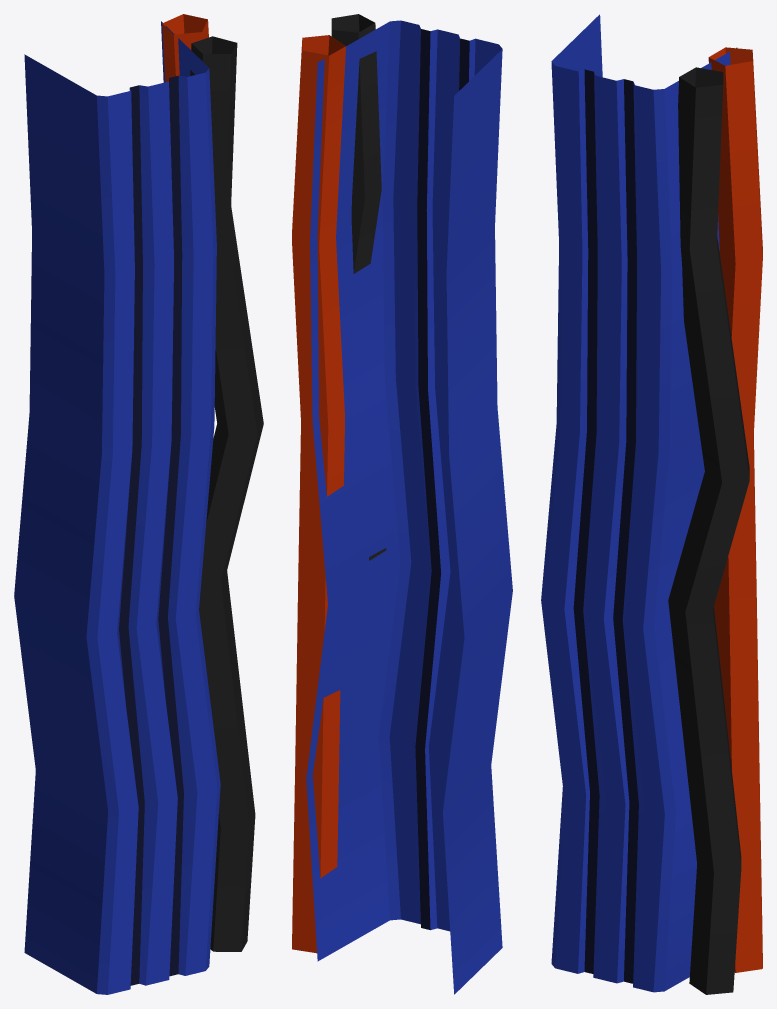
File: MDL_AscensorColumna.FBX
The picture shows the model from 3 angles, left to right: view 1: azimuth 30°, elevation 25°; view 2: azimuth 150°, elevation 25°; view 3: azimuth 330°, elevation 25°; orthographic projection.
Parts seen in each view (by area): view 1: Box005; view 2: Box005; view 3: Box005.
Boxes of the visible parts, x1,y1,x2,y2 form: Box005: (14, 14, 263, 994); Box005: (292, 14, 512, 994); Box005: (541, 14, 762, 994).
Size of the model in its own units: 98.97 by 418 by 53.63.
